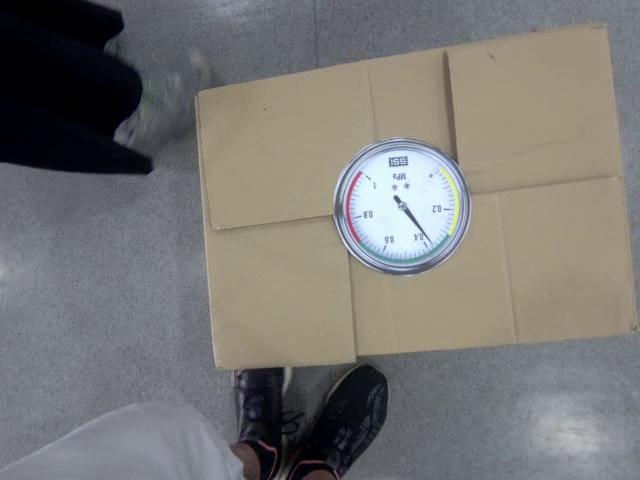Dashboard: (334, 138, 472, 276)
ssi: (387, 154, 409, 166)
